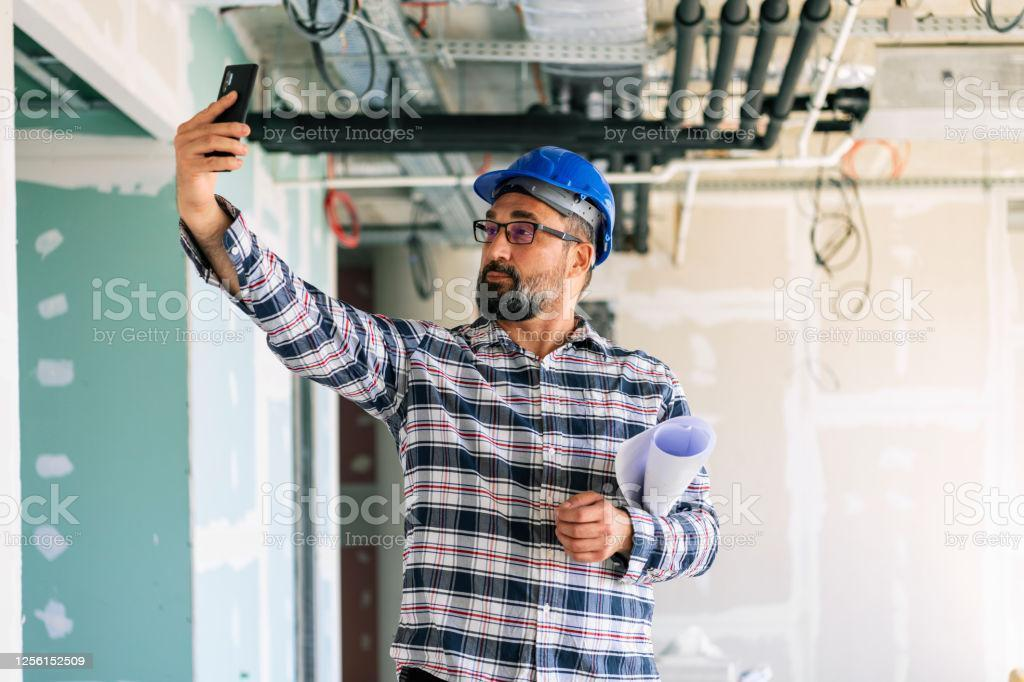helmet: (473, 143, 613, 258)
